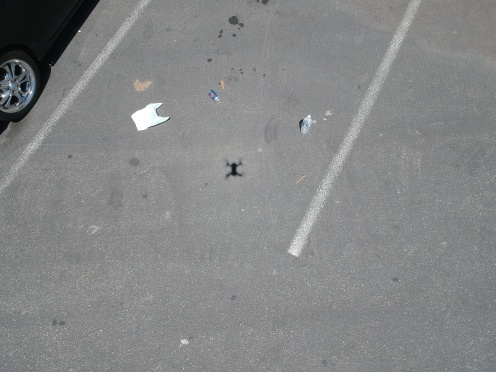bottle: (300, 112, 315, 134)
can: (204, 85, 224, 106)
plastic bag: (121, 97, 173, 134)
